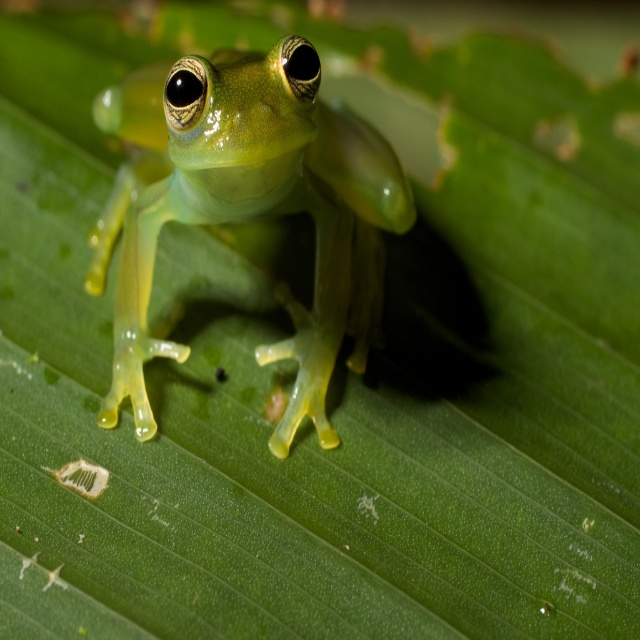Frog: (83, 35, 421, 447)
